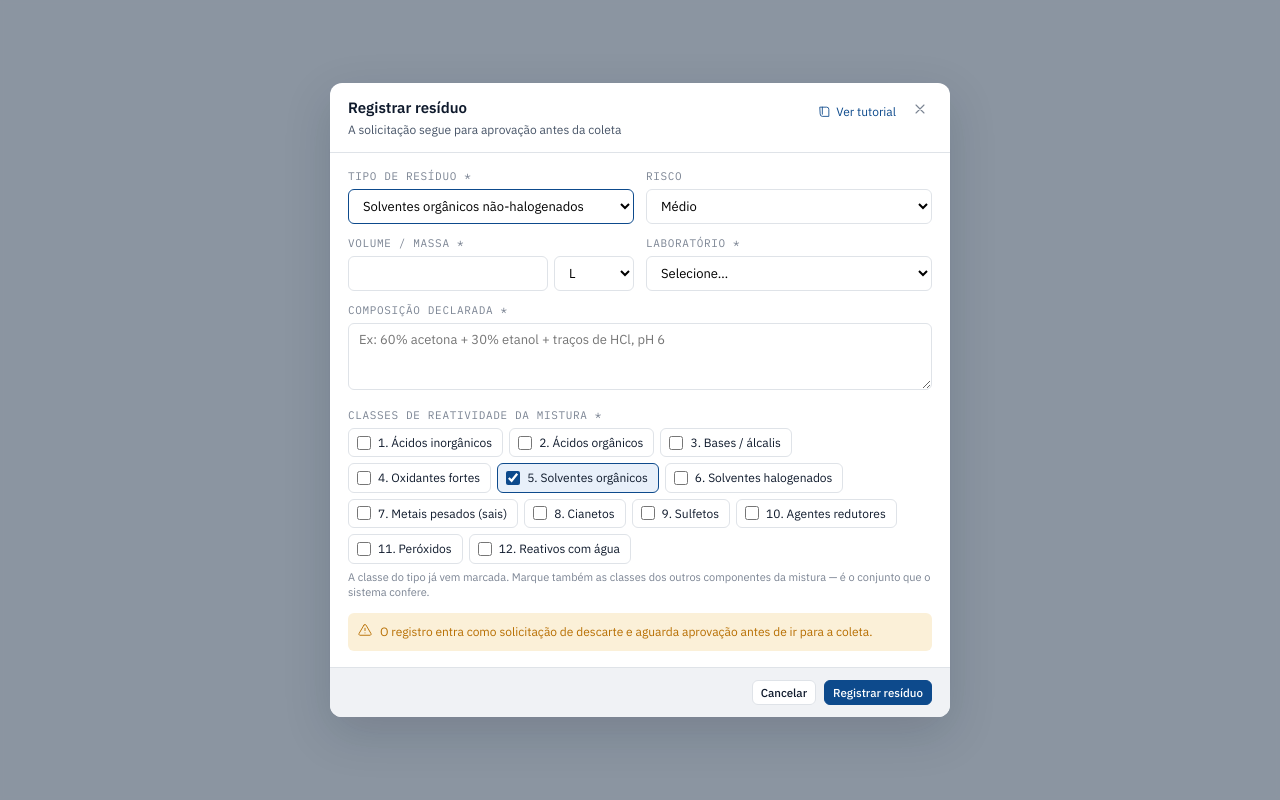
Test: FormNovoResiduo — entradas inválidas › veredito de mistura ao vivo › bloqueia o envio e nomeia o par proibido antes de chegar ao servidor
The width and height of the screenshot is (1280, 800).
Click the checkbox labelled "1. Ácidos inorgânicos": (364,443) [357,436,371,450]
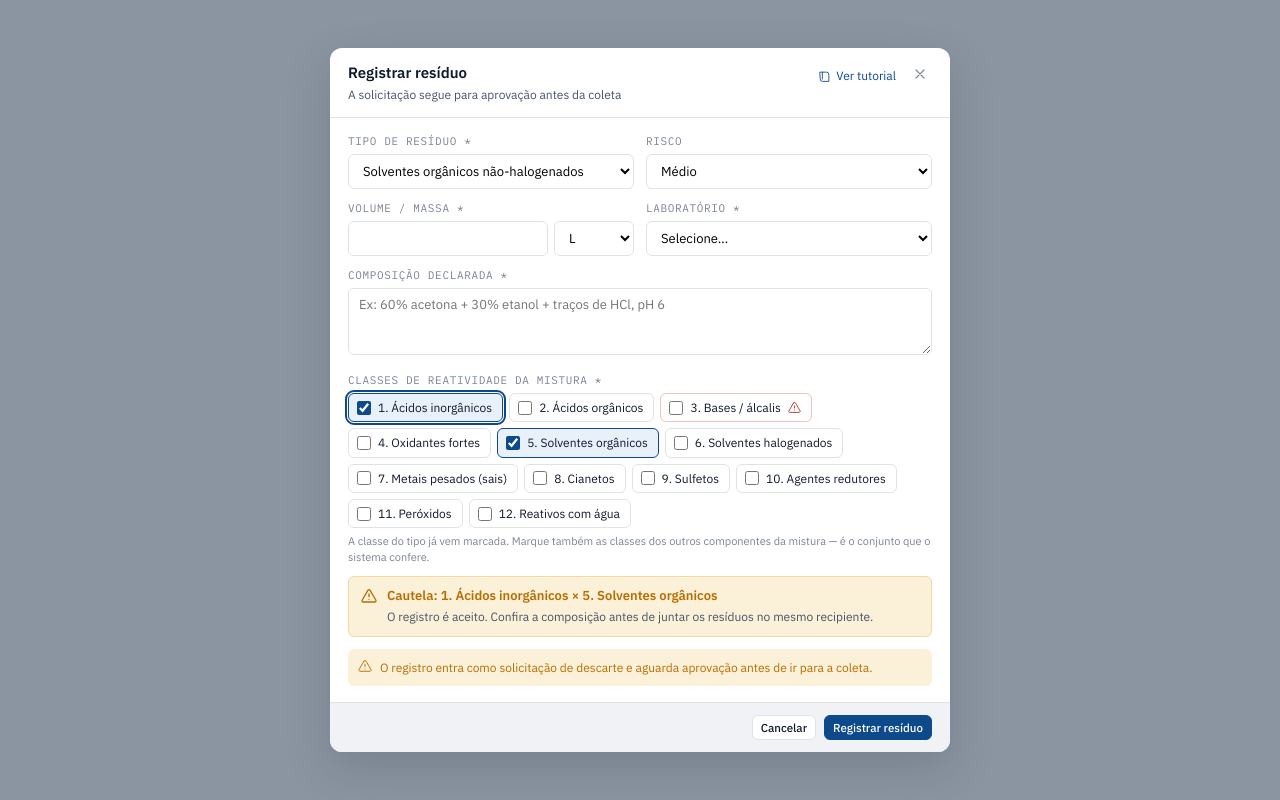
Click the checkbox labelled "3. Bases / álcalis": (676,408) [669,400,683,414]
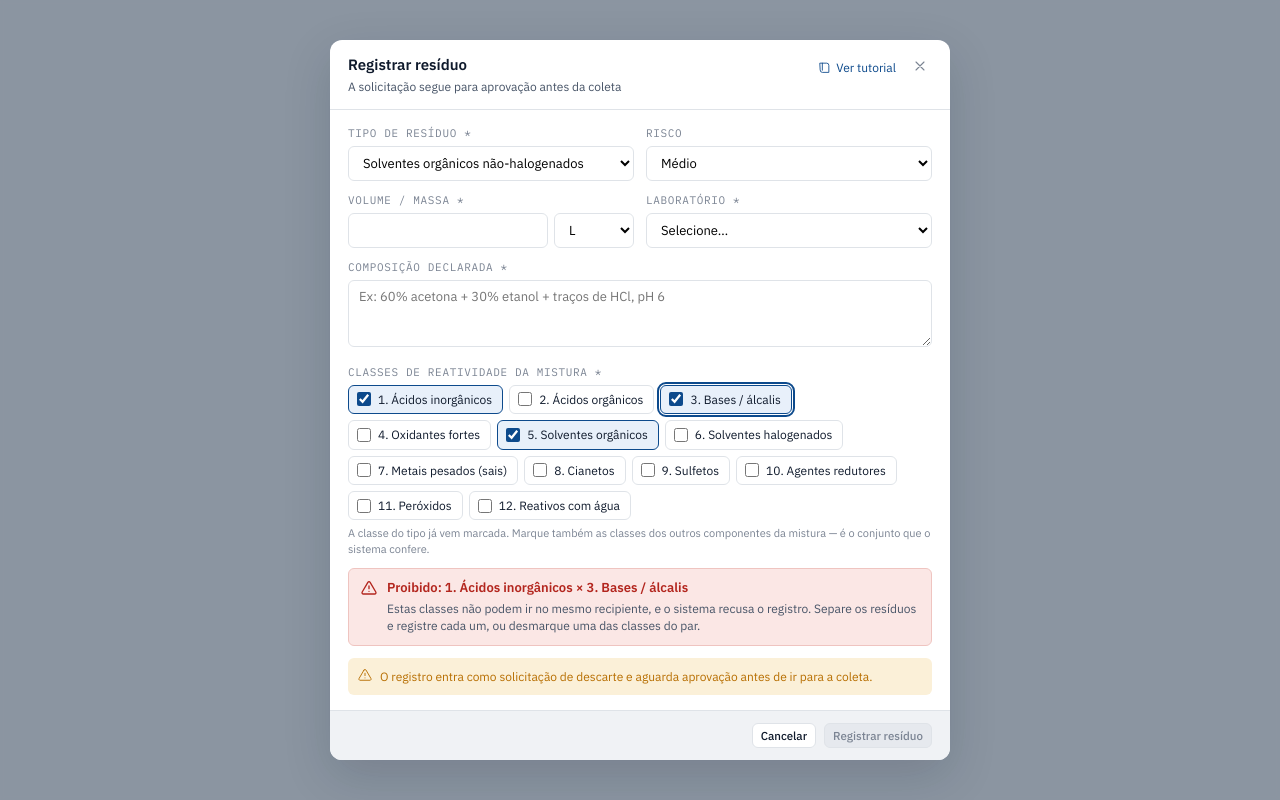
Expected: the text "Proibido: 1. Ácidos inorgânicos × 3. Bases / álcalis" is shown, [387,579,688,596]
Expected: the button "Registrar resíduo" is disabled, [824,723,932,748]
